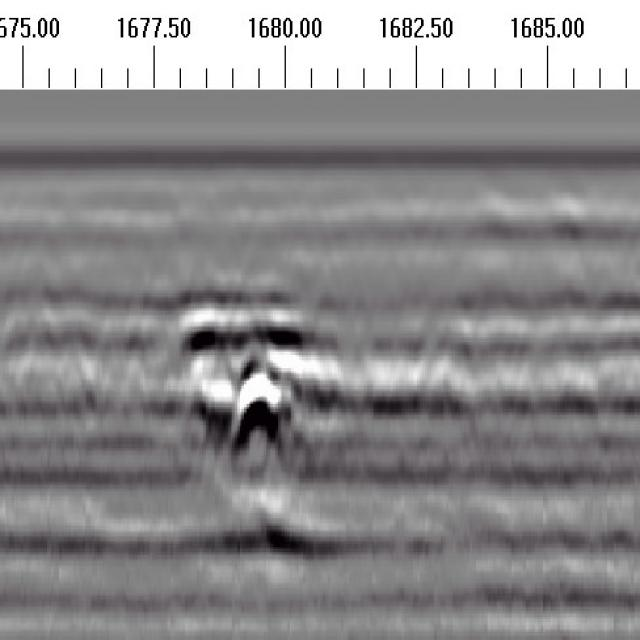loose: (157, 262, 346, 561)
